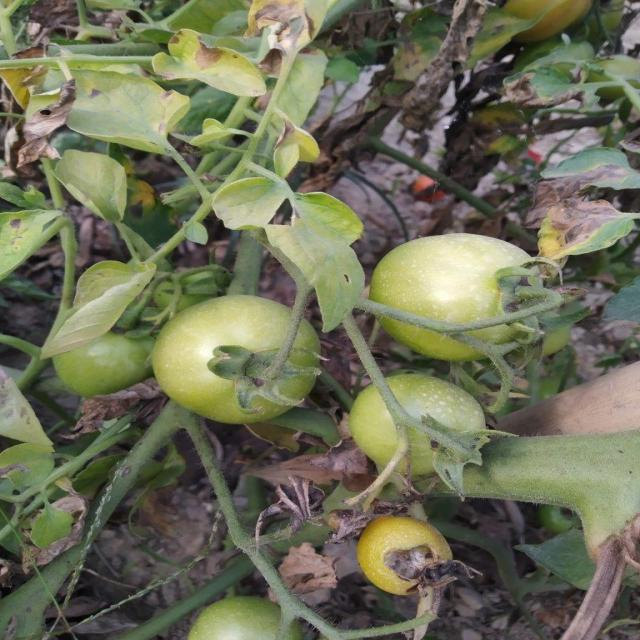Unripe: (370, 230, 550, 362), (149, 294, 326, 425), (347, 374, 494, 473)
